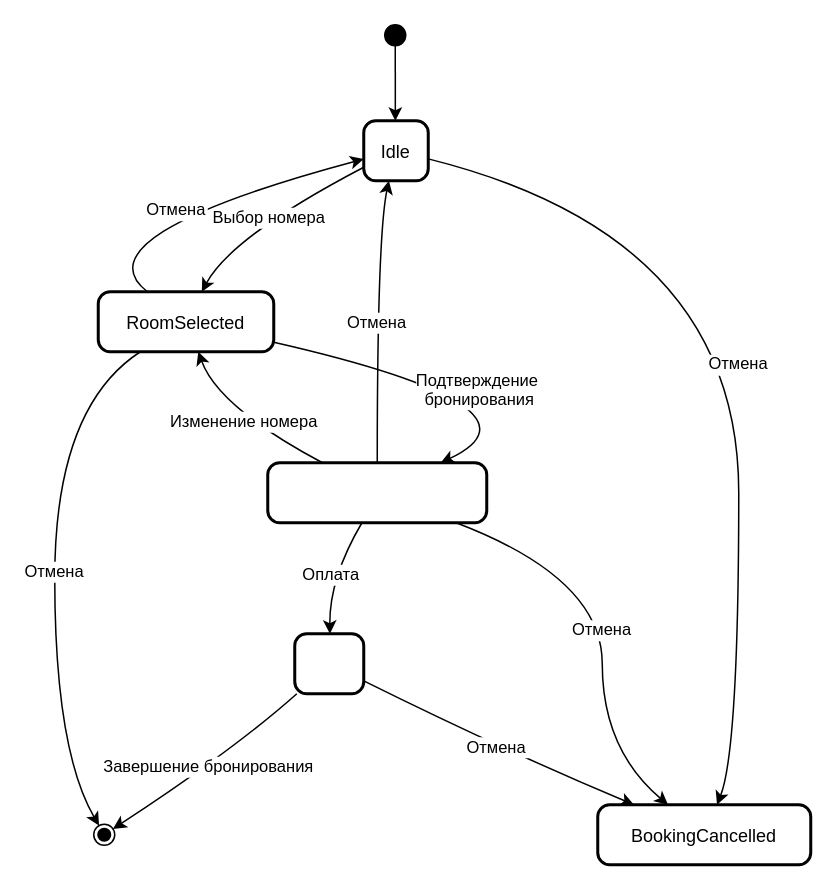
Image size: 836x890. Some labels were removed from this diagram. The centre of each missing label's shape, as x and y in pixels:
"BookingConfirmed" goes at point (377, 492).
"Paid" goes at point (328, 663).
